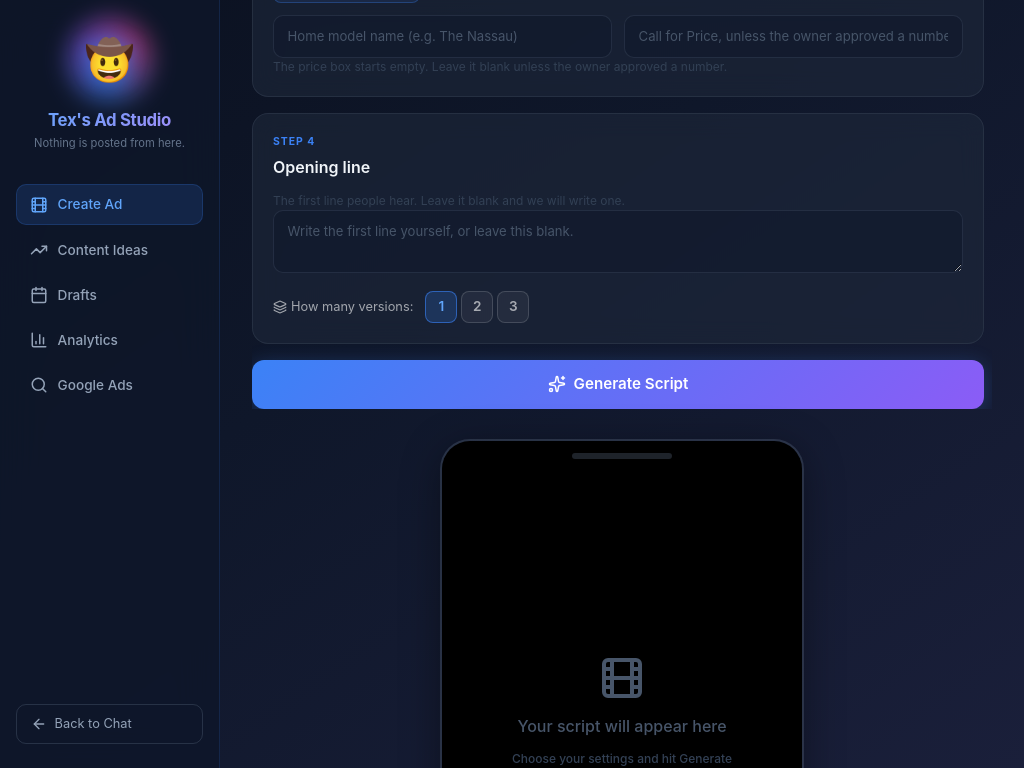
it: Ad Studio prepare draft › still shows a script error returned on HTTP 200 without opening the draft preview
(page scrolled)
Step 1. Click the button "Generate Script" → (618, 384), box [252,360,984,410]
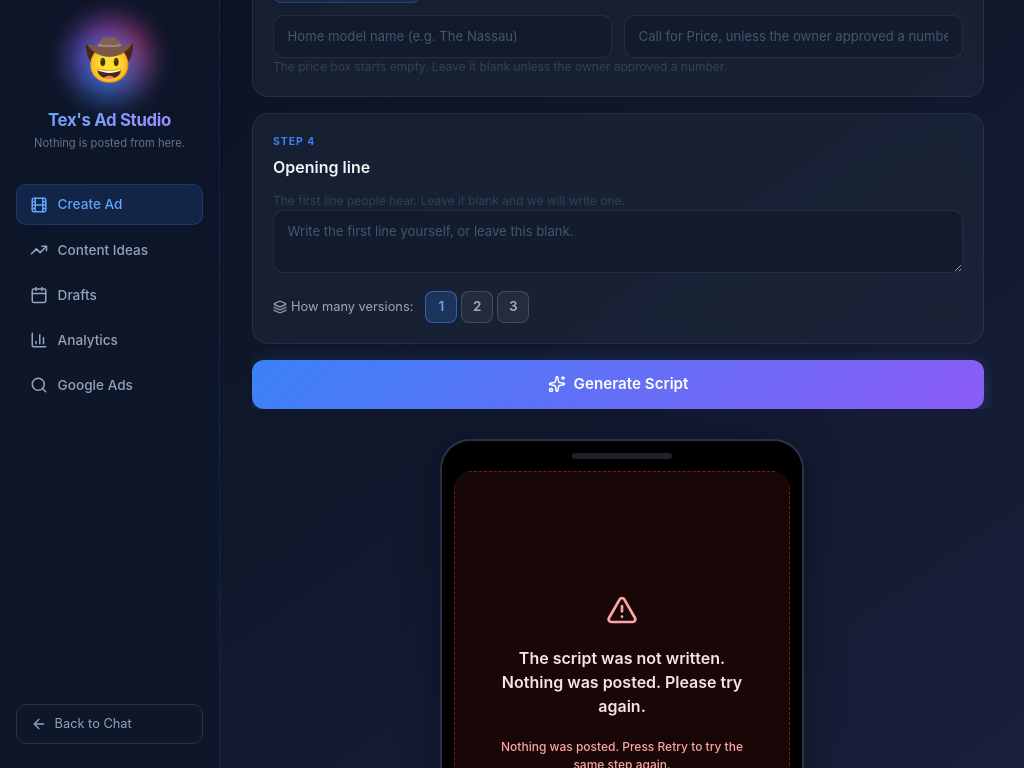
Result: the text "The script was not written. Nothing was posted. Please try again." is shown at [487,646,757,718]
